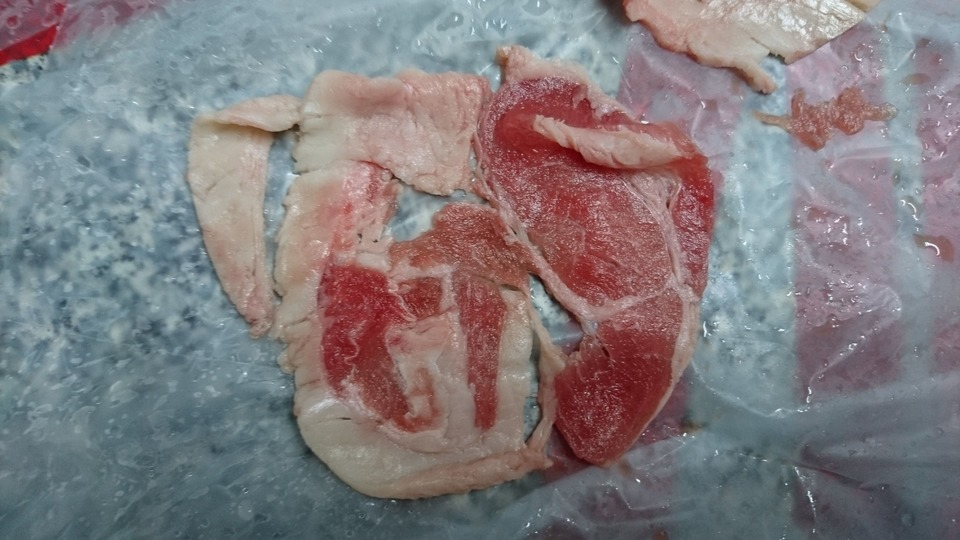restructured meat: (182, 61, 709, 489)
